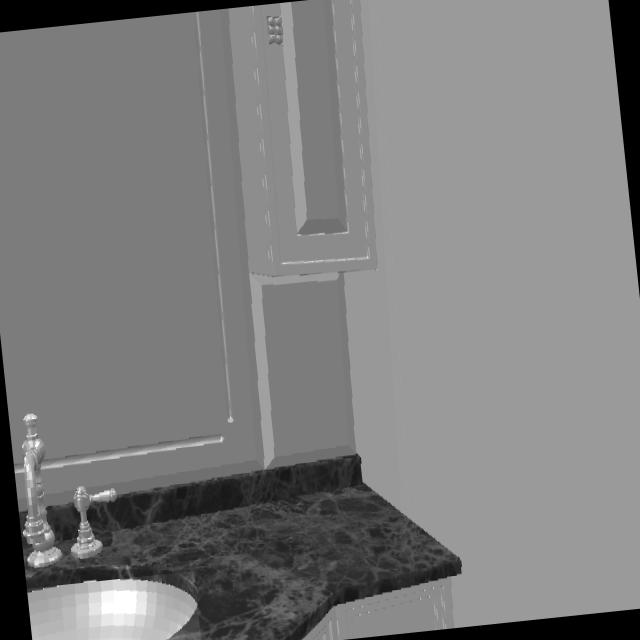washbasin: (27, 578, 198, 640)
